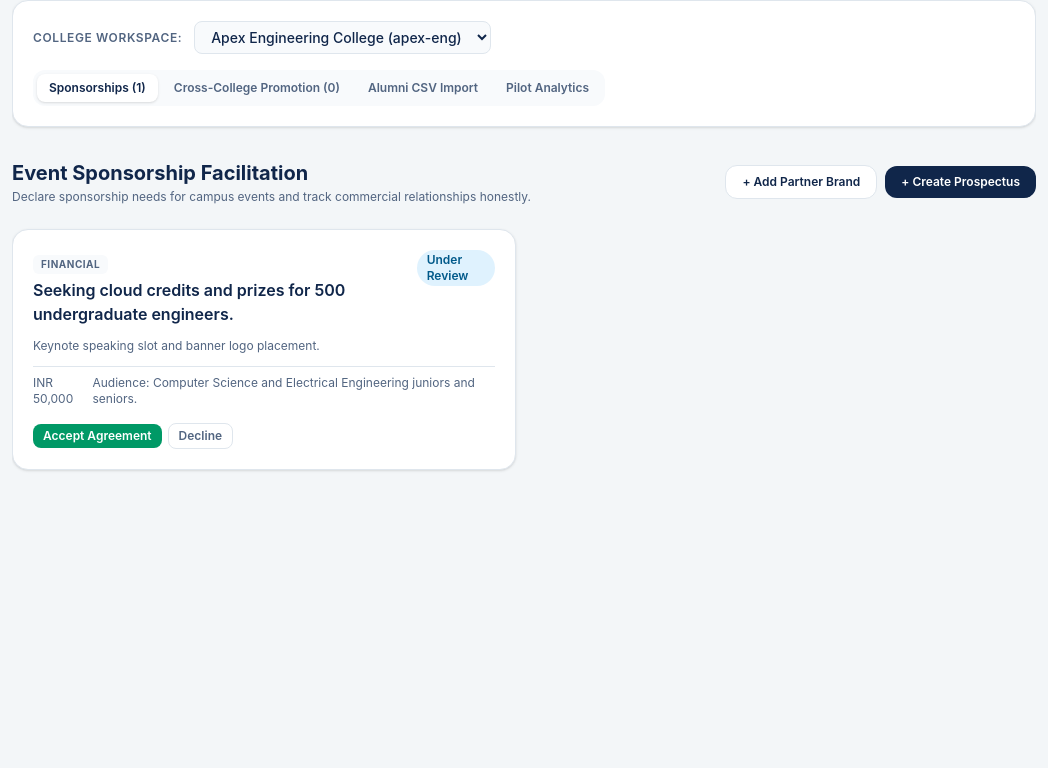
PartnershipsPromotionPanel › renders sponsorship prospectuses and switches through all Phase 8 subtabs
This screenshot has width=1048, height=768.
Expected: the button "Sponsorships (1)" is shown, [37, 74, 158, 102]
Expected: the button "Alumni CSV Import" is shown, [356, 74, 490, 102]
# Switch to Cross-College Promotion subtab
Click the button "Cross-College Promotion (0)" at (257, 88), box [162, 74, 352, 102]
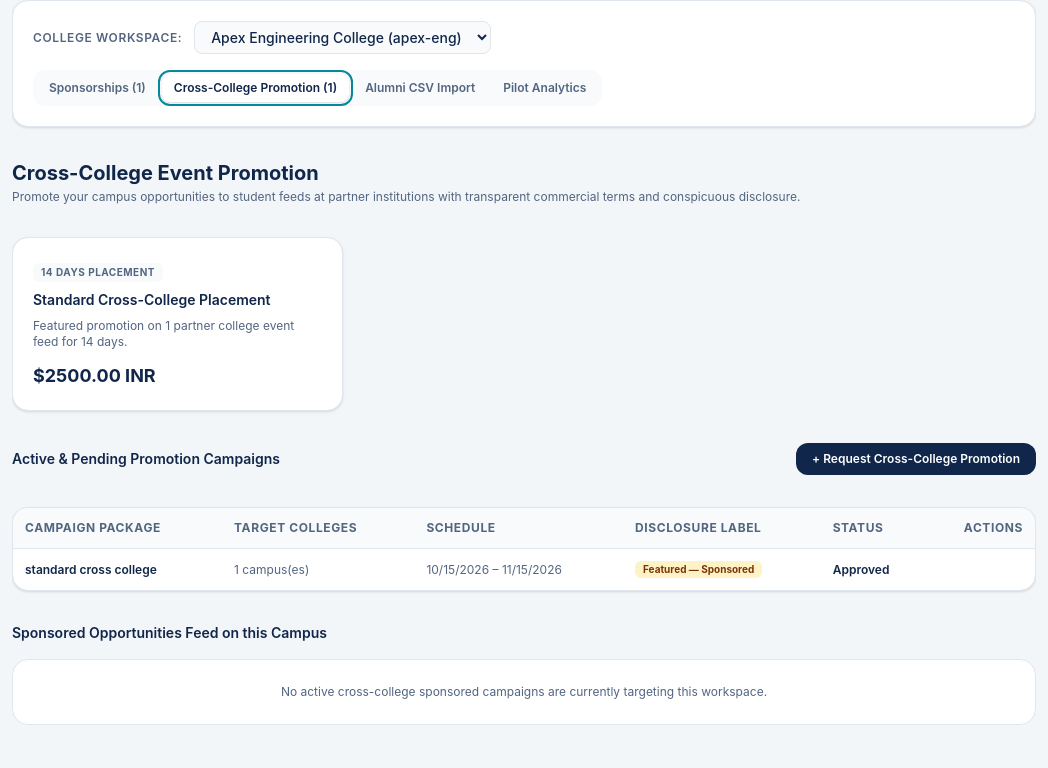
Expected: the heading "Standard Cross-College Placement" is shown, [33, 291, 271, 308]
# Switch to Alumni Directory Import subtab
Click the button "Alumni CSV Import" at (420, 88), box [353, 74, 487, 102]
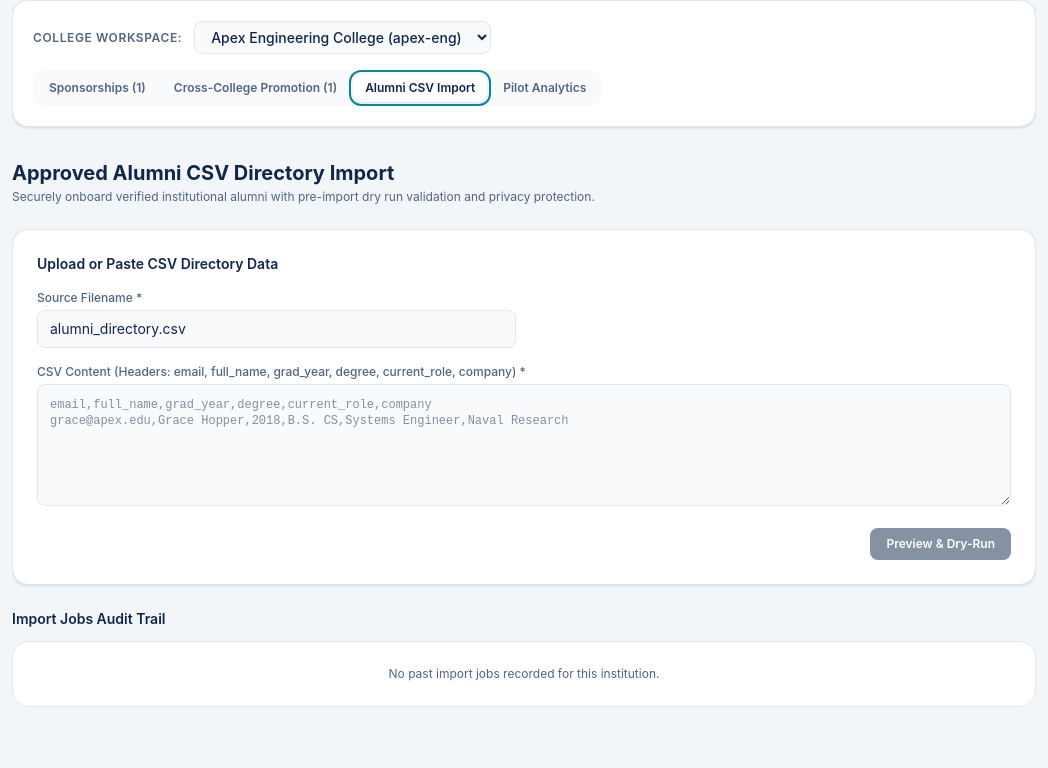
Expected: the heading "Approved Alumni CSV Directory Import" is shown, [12, 161, 394, 185]
Expected: the heading "Upload or Paste CSV Directory Data" is shown, [37, 255, 278, 272]
# Switch to Pilot & Release Metrics subtab
Click the button "Pilot Analytics" at (545, 88), box [491, 74, 598, 102]
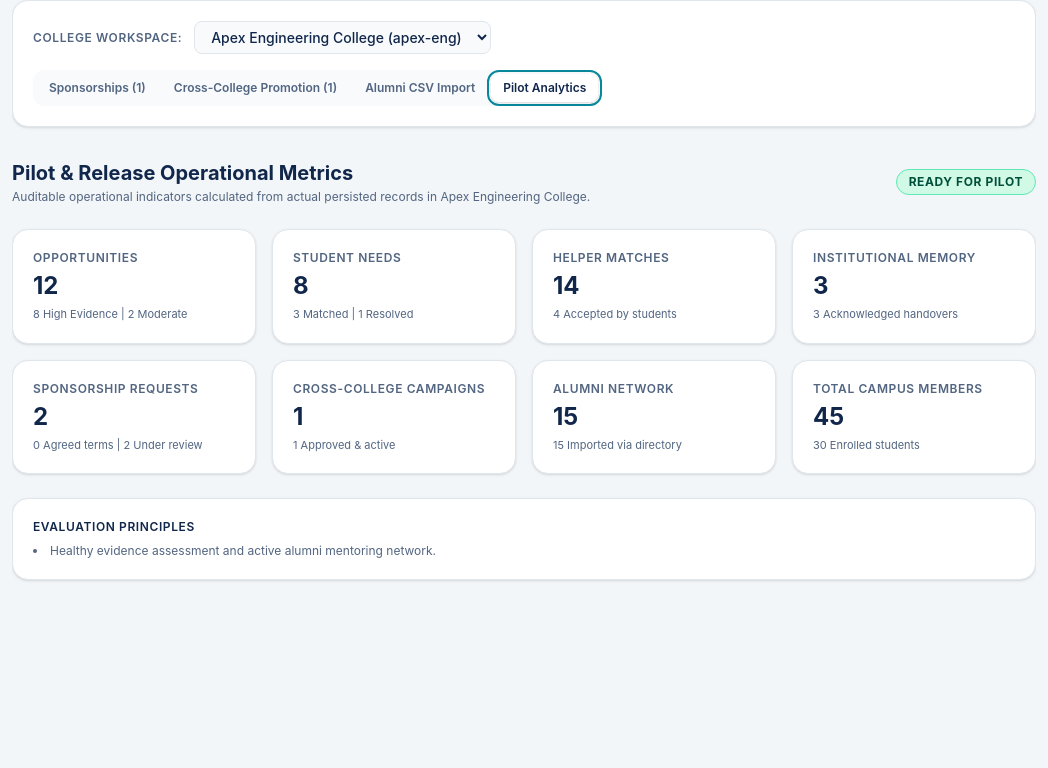
Expected: the heading "Pilot & Release Operational Metrics" is shown, [12, 161, 353, 185]
Expected: the text "READY FOR PILOT" is shown, [896, 169, 1036, 195]
